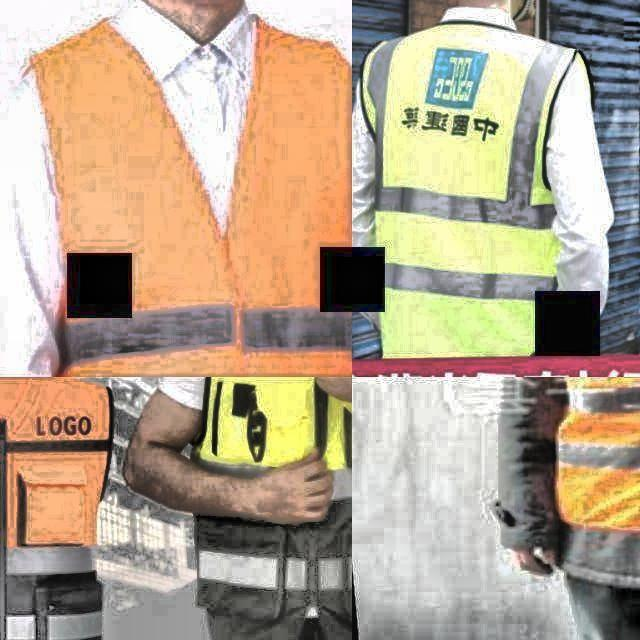safety_jacket: (0, 0, 352, 377), (352, 21, 573, 359), (0, 377, 125, 615), (176, 377, 352, 522), (515, 377, 640, 558)
